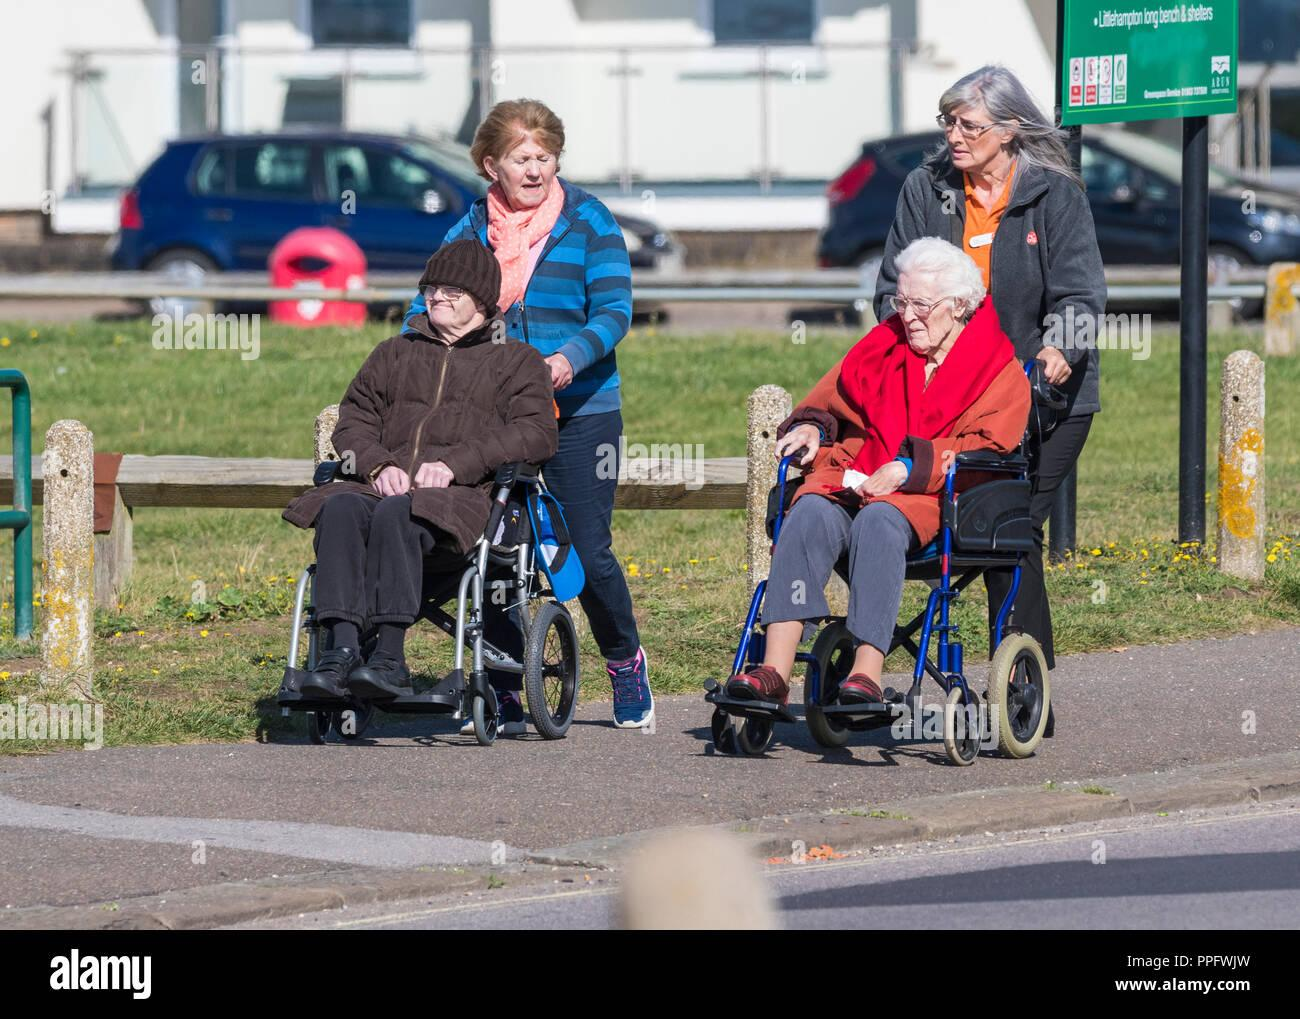push_wheelchair: (399, 98, 654, 736), (874, 64, 1109, 741)
wheelchair: (276, 238, 586, 744)
